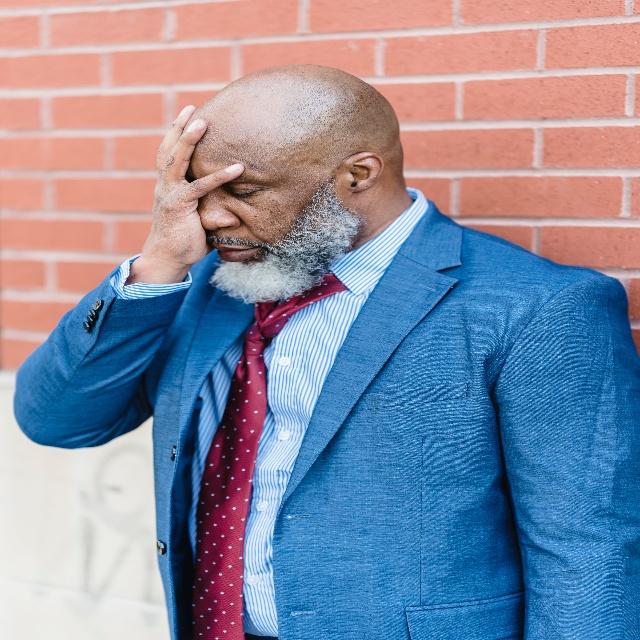Sin_guantes: (147, 101, 246, 268)
